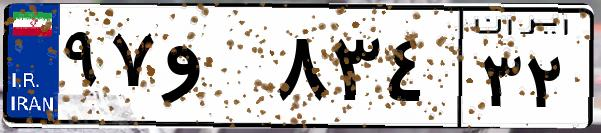2: (525, 38, 570, 115)
3: (330, 28, 385, 110), (475, 38, 525, 113)
4: (385, 28, 445, 110)
7: (110, 28, 158, 98)
8: (270, 28, 330, 110)
9: (57, 26, 110, 100)
و: (158, 20, 270, 120)
